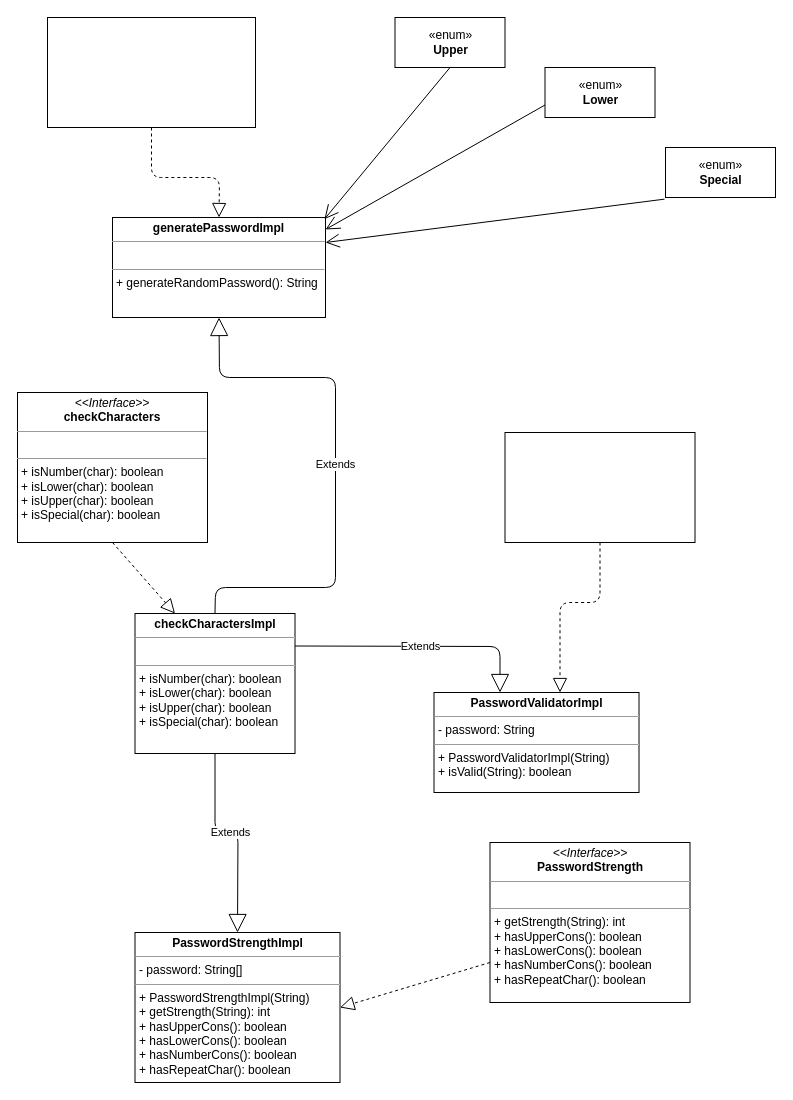
Image size: 793x1100. Some labels were removed from this diagram. The centre of each missing label's shape, as x and y in pixels:
<<Interface>> generatePassword + generateRandomPassword(): String: the point at 151,72
<<Interface>> PasswordValidator + isValid(String): boolean: the point at 599,487
